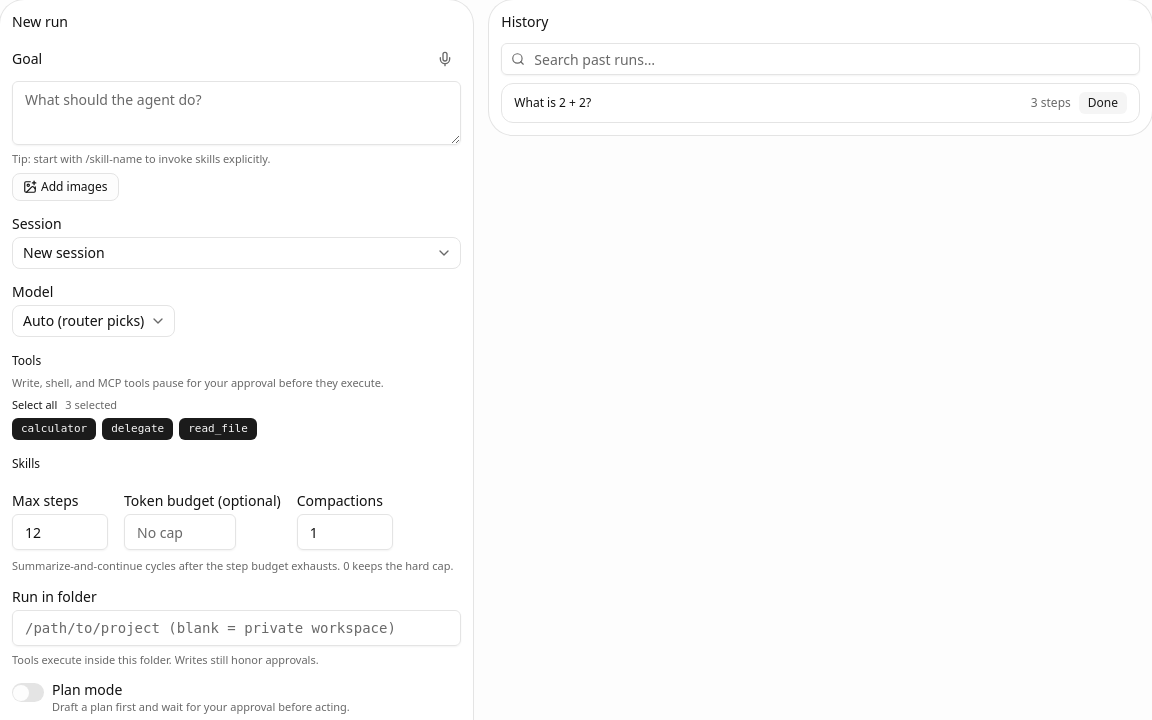
it: selects a finished run and renders steps plus the final answer
Click the button "What is 2 + 2? 3 steps Done" at (553, 103), box [501,83,1140,123]
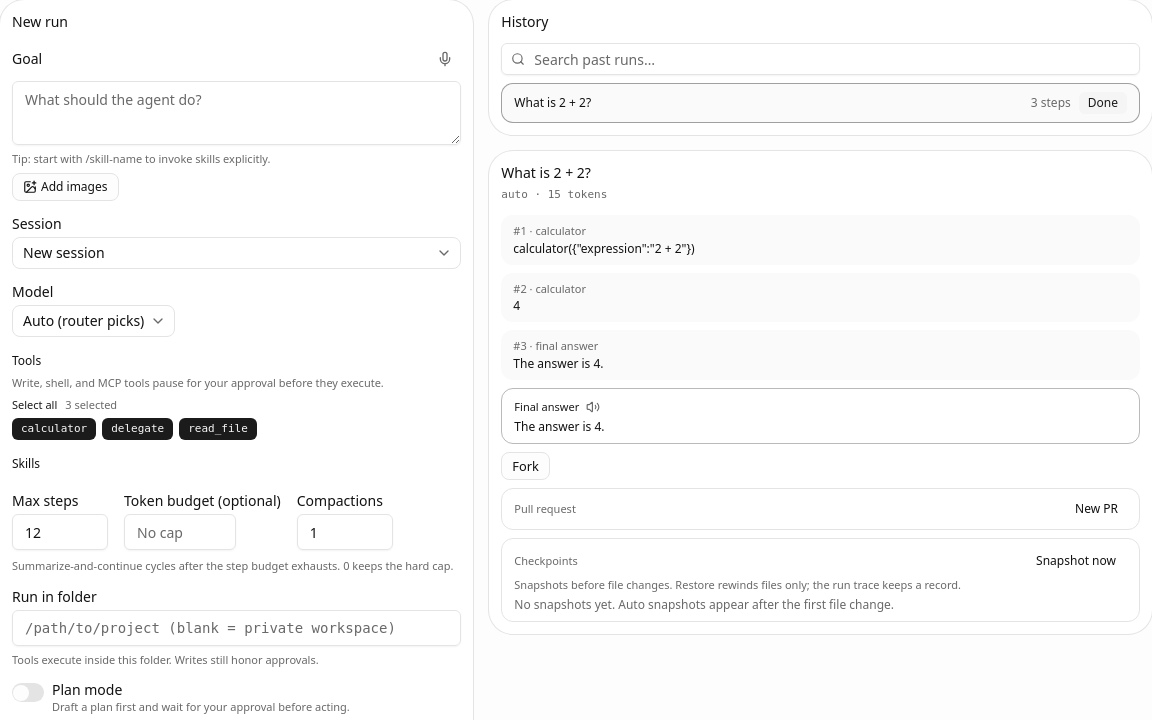
Expected: the text "calculator" is shown, [12,418,96,440]
Expected: the text "The answer is 4." is shown, [513,355,604,372]
